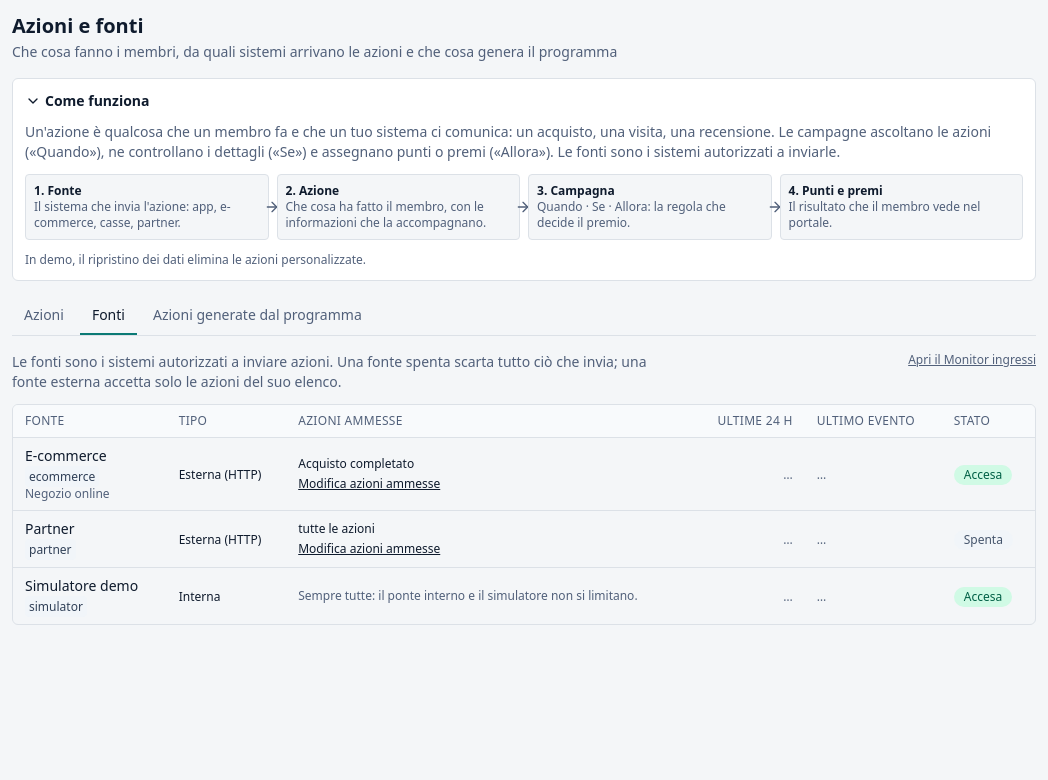
Test: BO-09 fonti › errore del servizio mostrato sopra la tabella
Click the switch named "Fonte Partner accesa": (983, 540) [954, 530, 1013, 550]
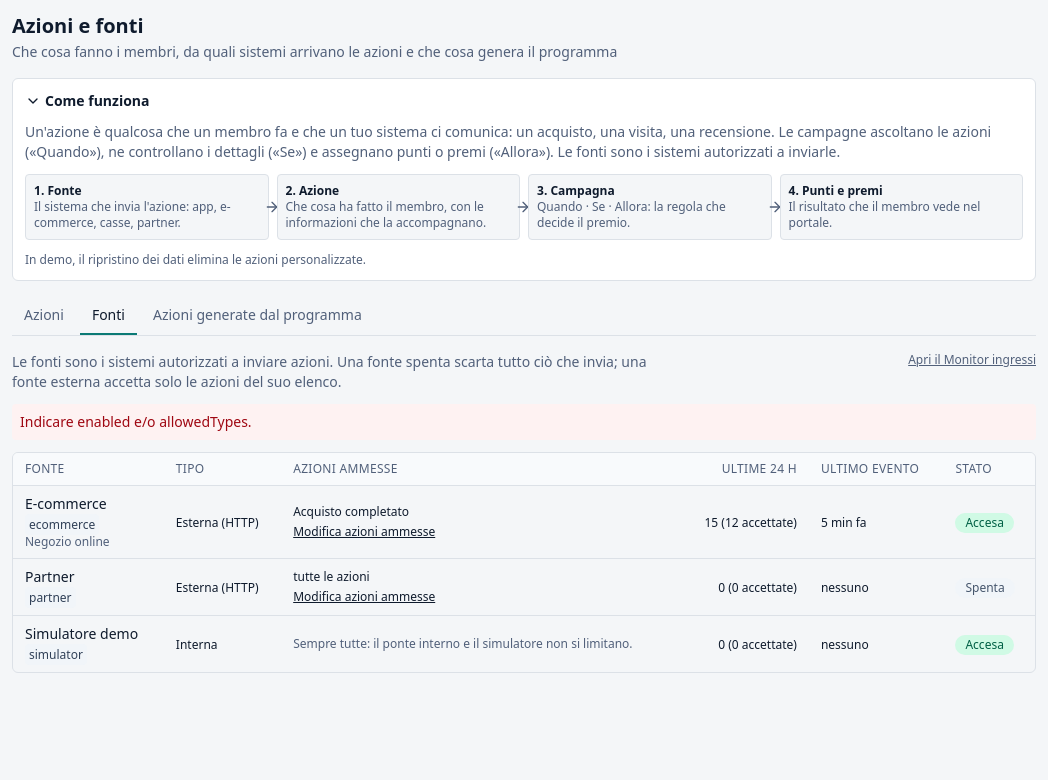
expect the text "Indicare enabled e/o allowedTypes." is shown: met, box [12, 404, 1036, 440]
